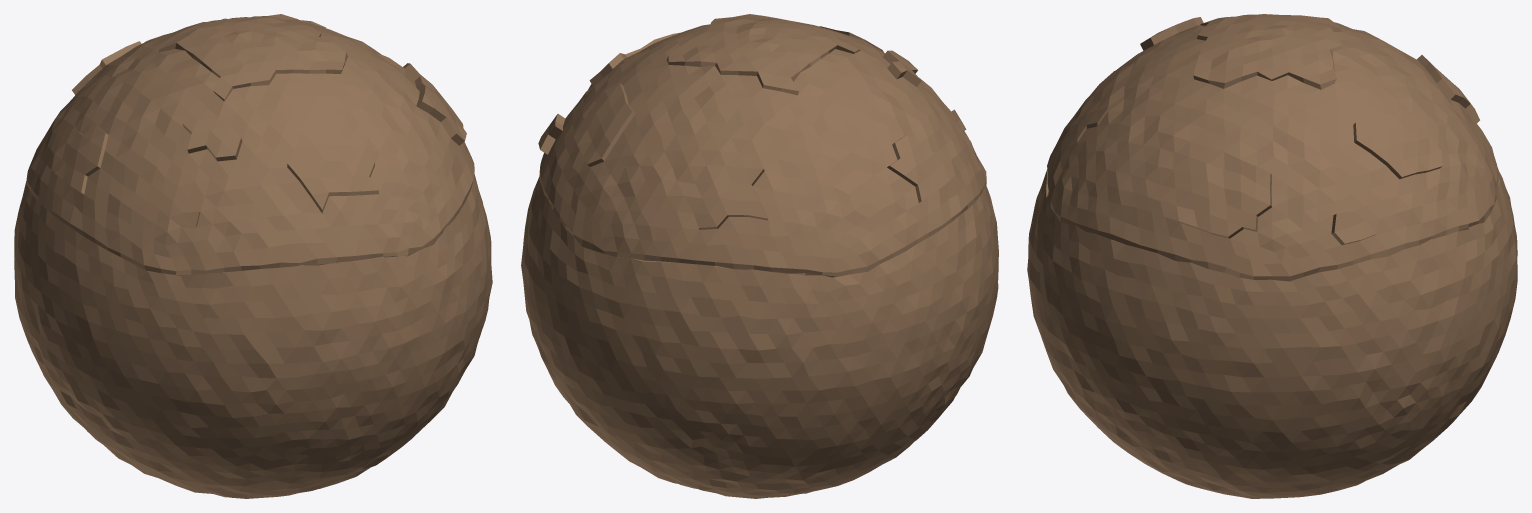
3 views of the same model, side by side, from view 1: azimuth 30°, elevation 25°; view 2: azimuth 150°, elevation 25°; view 3: azimuth 270°, elevation 25° (orthographic).
Parts seen in each view (by area): view 1: Icosphere; view 2: Icosphere; view 3: Icosphere.
Part boxes in pixels (x1,y1,x2,y2): Icosphere: (14,14,492,498); Icosphere: (521,14,998,498); Icosphere: (1027,14,1517,498).
Size of the model in its own units: 835 by 847 by 847.
